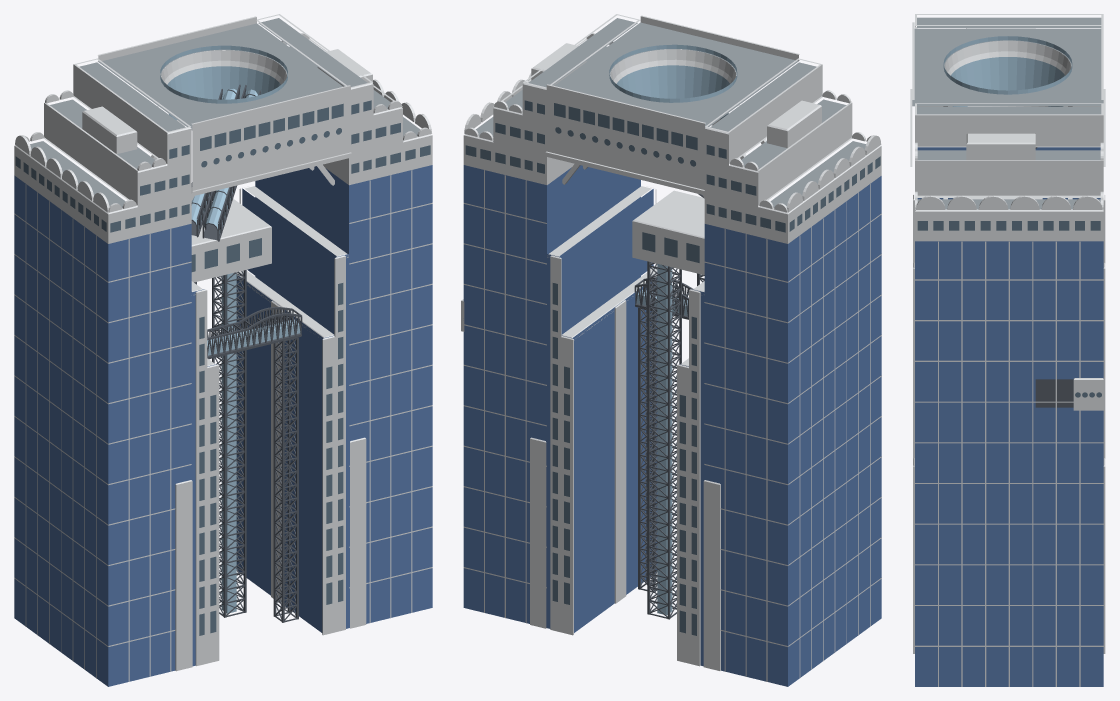
The model's file is osaka-umeda-sky-building.detail.glb.
The picture shows the model from 3 angles, left to right: view 1: azimuth 30°, elevation 25°; view 2: azimuth 150°, elevation 25°; view 3: azimuth 270°, elevation 25°; orthographic projection.
Visible parts, largest first — view 1: Umeda Sky Building; view 2: Umeda Sky Building; view 3: Umeda Sky Building.
Boxes of the visible parts, bbox=[...] form: Umeda Sky Building: bbox=[14, 14, 432, 686]; Umeda Sky Building: bbox=[461, 14, 881, 686]; Umeda Sky Building: bbox=[910, 14, 1105, 686].
Size of the model in its own units: 110 by 174 by 56.4.
